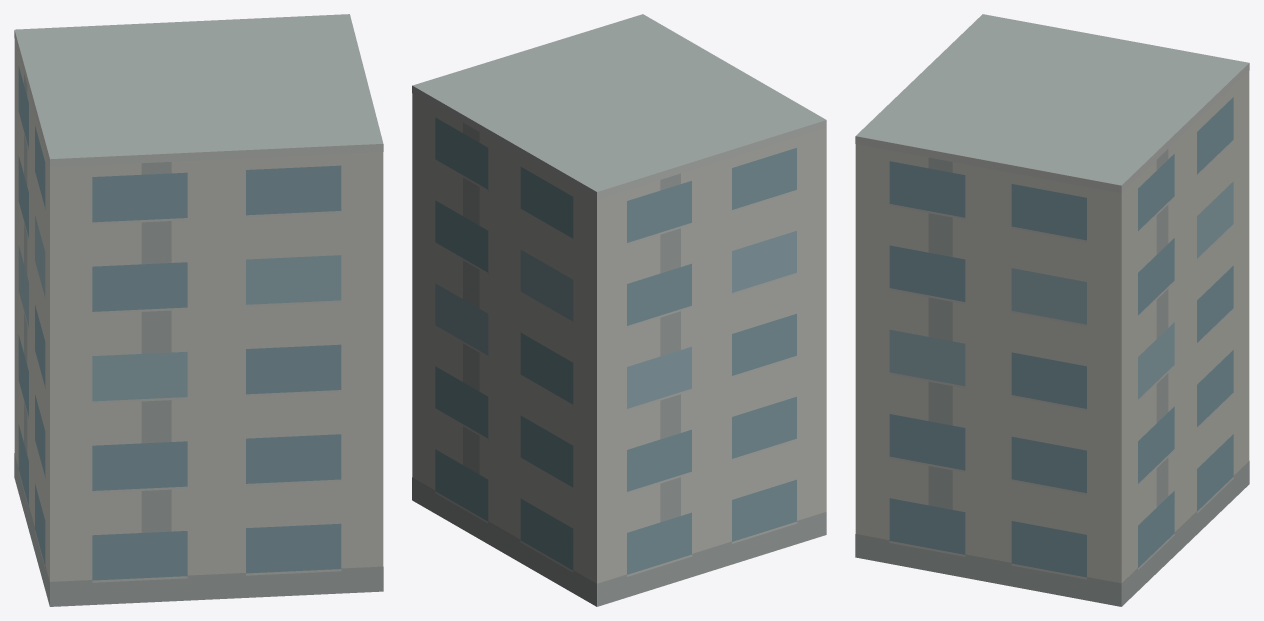
Rendered from survey-upis-32523476.glb.
3 views of the same model, side by side, from view 1: azimuth 30°, elevation 25°; view 2: azimuth 150°, elevation 25°; view 3: azimuth 270°, elevation 25° (orthographic). The views are drawn at different scales.
Parts seen in each view (by area): view 1: survey-upis-32523476.tmp; view 2: survey-upis-32523476.tmp; view 3: survey-upis-32523476.tmp.
Part boxes in pixels (box(x1,y1,x2,y2)): survey-upis-32523476.tmp: box(14, 14, 383, 606); survey-upis-32523476.tmp: box(412, 14, 826, 606); survey-upis-32523476.tmp: box(855, 14, 1249, 606).
Size of the model in its own units: 11.54 by 13.2 by 11.2.
